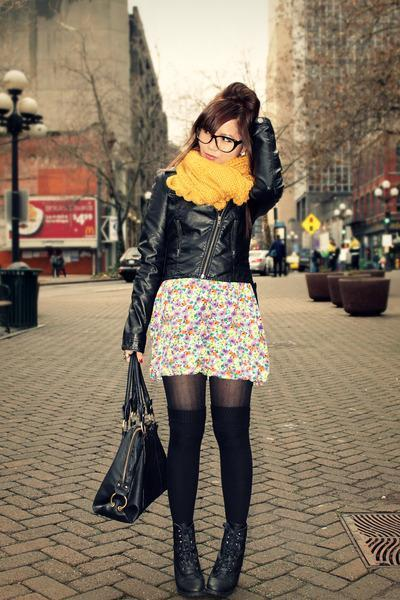bag: (93, 356, 172, 523)
jacket: (117, 162, 290, 353)
shoe: (164, 521, 253, 599)
skirt: (148, 278, 268, 395)
